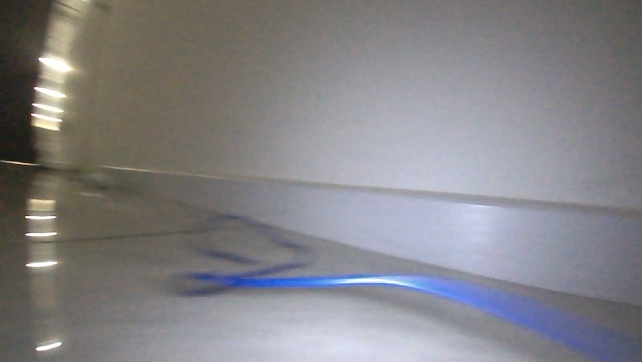toilet: (161, 207, 641, 362)
